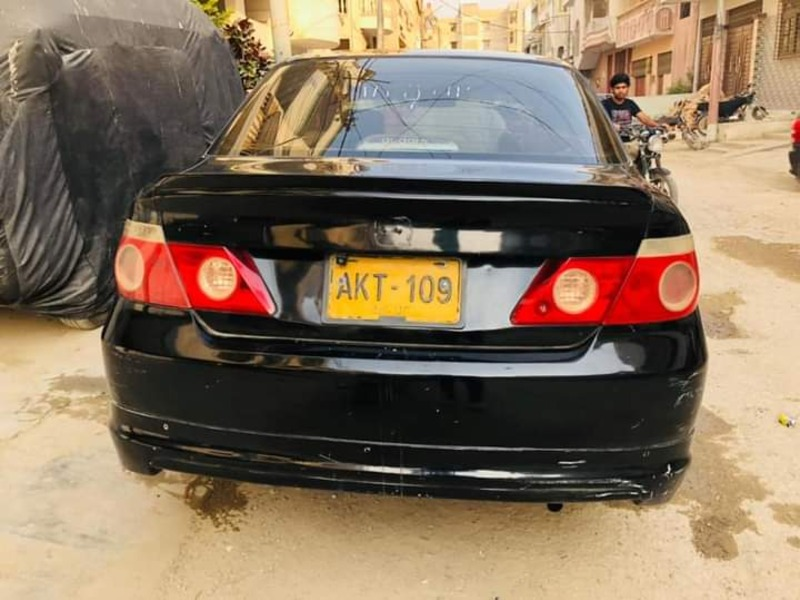License Plate: (320, 252, 468, 333)
